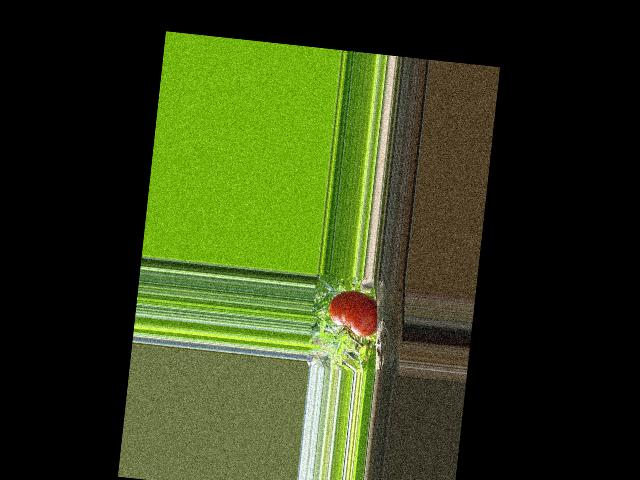tomato: (325, 289, 380, 338)
